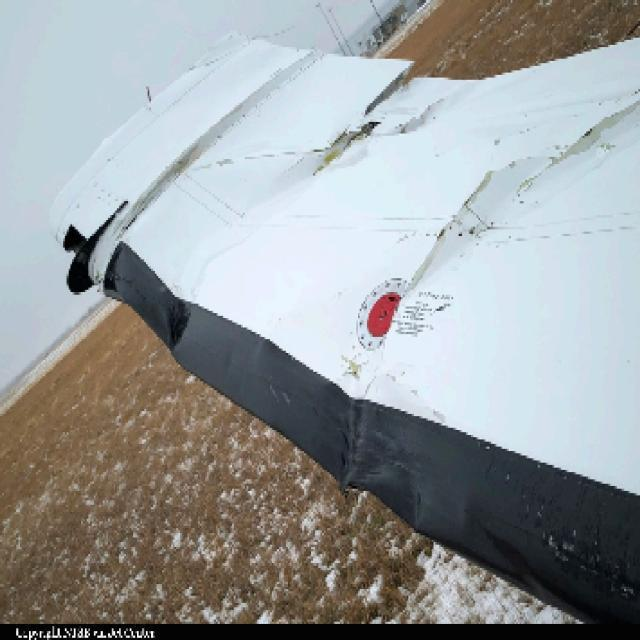crack: (313, 55, 428, 182), (516, 101, 640, 193), (405, 170, 495, 295)
